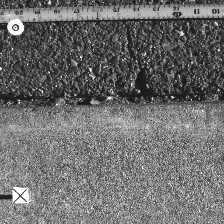circle: (6, 19, 24, 35)
crack: (1, 91, 223, 107)
square: (12, 186, 29, 204)
